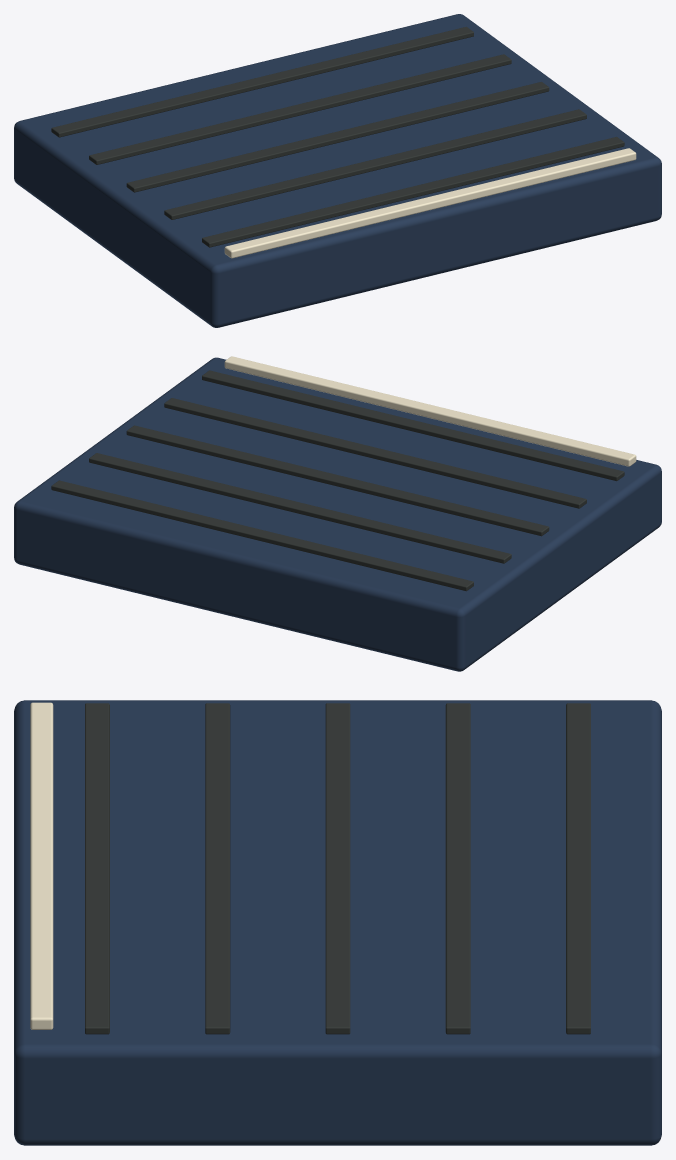
Rendered from planetarium-and-optical-observatory-audience-aisle-ste-c37d445f__31823.glb.
3 renders of one model, top to bottom at view 1: azimuth 30°, elevation 25°; view 2: azimuth 150°, elevation 25°; view 3: azimuth 270°, elevation 25°, orthographic. The views are drawn at different scales.
Parts seen in each view (by area): view 1: audience-aisle-step; view 2: audience-aisle-step; view 3: audience-aisle-step.
Part boxes in pixels (box(x1,y1,x2,y2)): audience-aisle-step: box(14, 14, 661, 327); audience-aisle-step: box(14, 356, 661, 671); audience-aisle-step: box(14, 700, 661, 1145).
Size of the model in its own units: 0.9 by 0.135 by 0.7.
